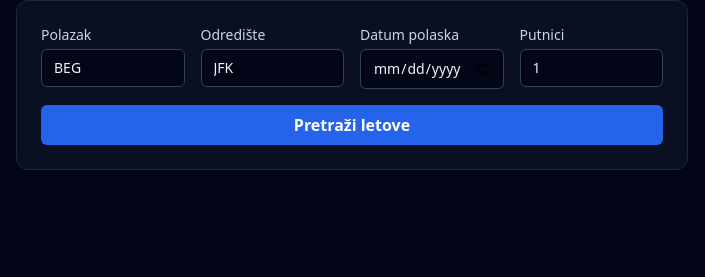
Scenario: SearchForm › sends the adults count to the search endpoint
Replace the text in the number field labelled "Putnici" with "3": (591,68) left=520, top=49, right=663, bottom=87
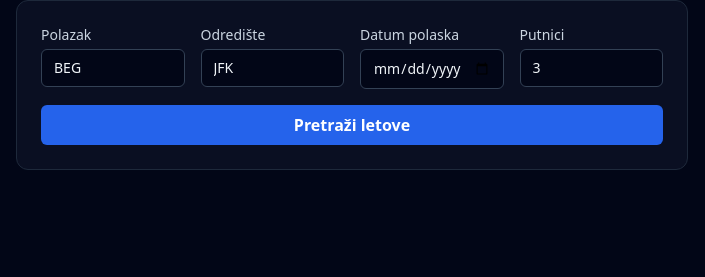
Click the button "Pretraži letove": (352,125) left=41, top=105, right=663, bottom=145
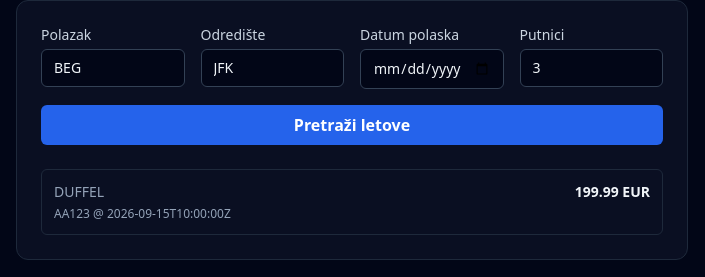
Now the text "duffel" is shown, box left=54, top=182, right=104, bottom=202
